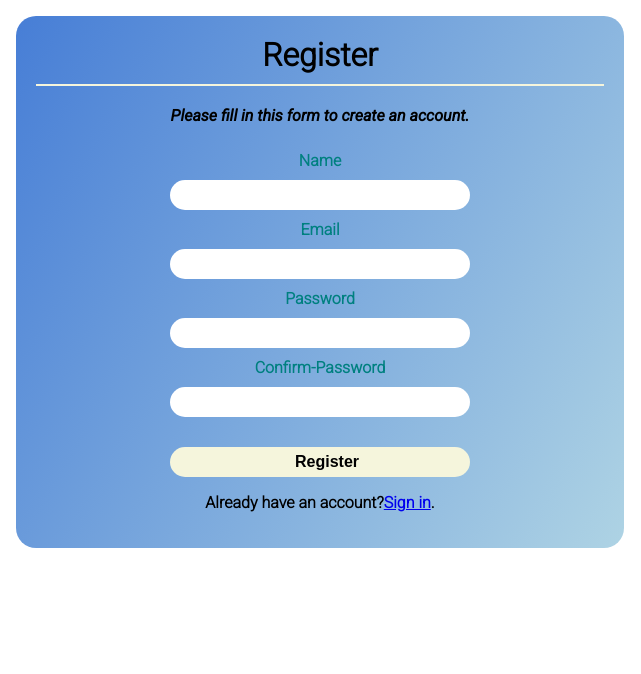
it: Test Register component › Register form inputs errors › should show required username error!
The width and height of the screenshot is (641, 674).
Click the button "Register": (320, 462) [170,447,470,477]
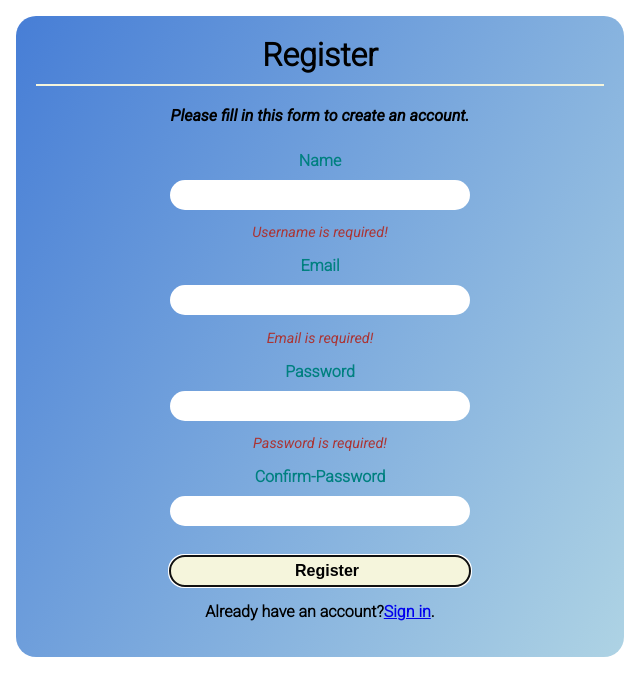
Check: the text "Username is required!" is shown, box [252,224,388,241]
